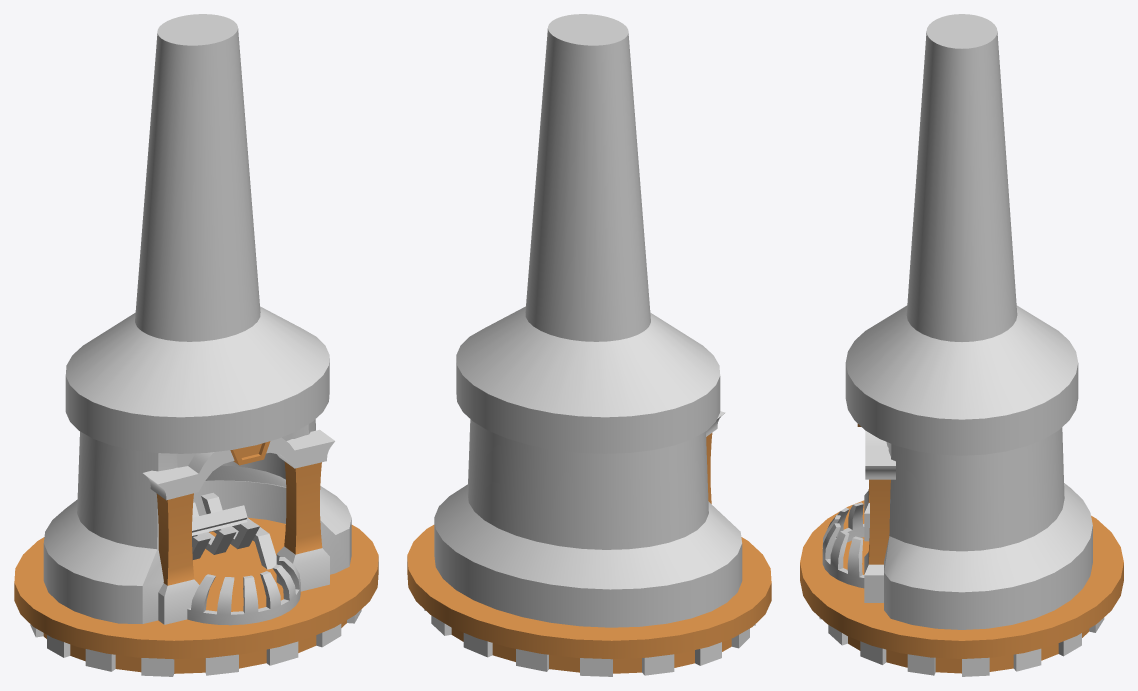
File: FirePlace.fbx
3 views of the same model, side by side, from view 1: azimuth 30°, elevation 25°; view 2: azimuth 150°, elevation 25°; view 3: azimuth 270°, elevation 25° (orthographic).
Visible parts, largest first — view 1: Cylinder.044; view 2: Cylinder.044; view 3: Cylinder.044.
Boxes of the visible parts, x1,y1,x2,y2 form: Cylinder.044: (14,14,378,676); Cylinder.044: (407,14,771,676); Cylinder.044: (800,14,1123,676).
Bounding box in the file's own units: 540 × 921 × 471.
